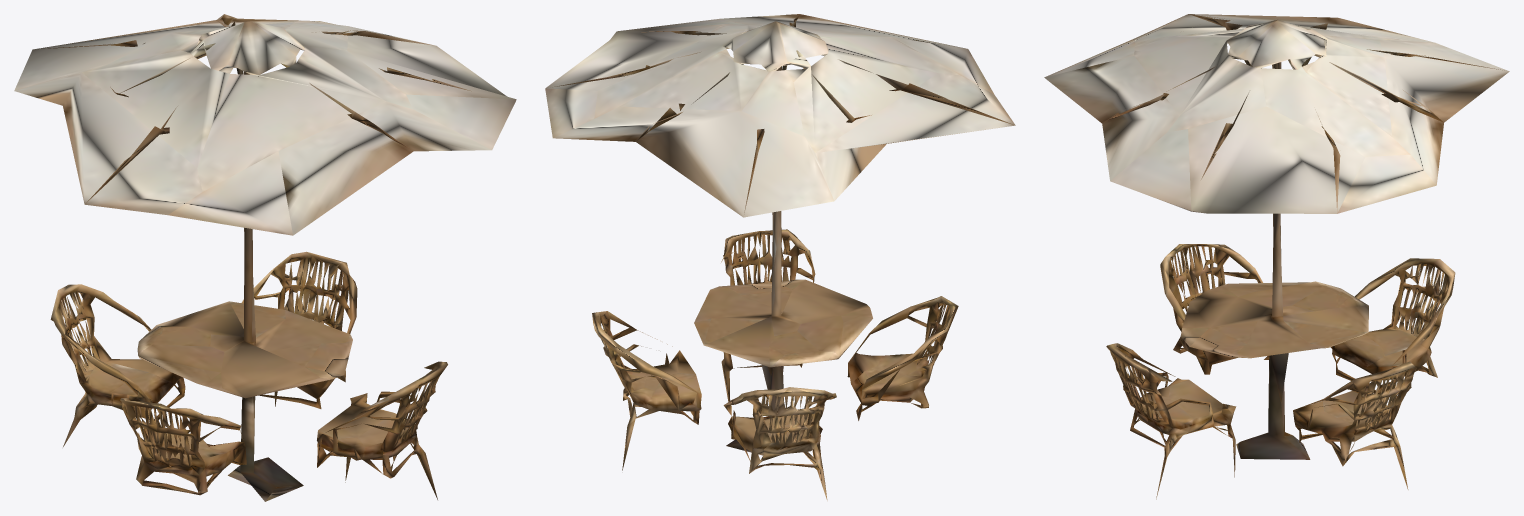
The model's file is schirmtisch.glb.
3 views of the same model, side by side, from view 1: azimuth 30°, elevation 25°; view 2: azimuth 150°, elevation 25°; view 3: azimuth 270°, elevation 25° (orthographic). The views are drawn at different scales.
Parts seen in each view (by area): view 1: tripo_node_764344f0-f808-4848-9c96-f9b64a5bafc1; view 2: tripo_node_764344f0-f808-4848-9c96-f9b64a5bafc1; view 3: tripo_node_764344f0-f808-4848-9c96-f9b64a5bafc1.
Boxes of the visible parts, x1,y1,x2,y2 form: tripo_node_764344f0-f808-4848-9c96-f9b64a5bafc1: (14,14,516,501); tripo_node_764344f0-f808-4848-9c96-f9b64a5bafc1: (545,14,1015,500); tripo_node_764344f0-f808-4848-9c96-f9b64a5bafc1: (1044,14,1509,499).
Size of the model in its own units: 0.9595 by 0.9785 by 0.9688.
1 material, 1 textured.
